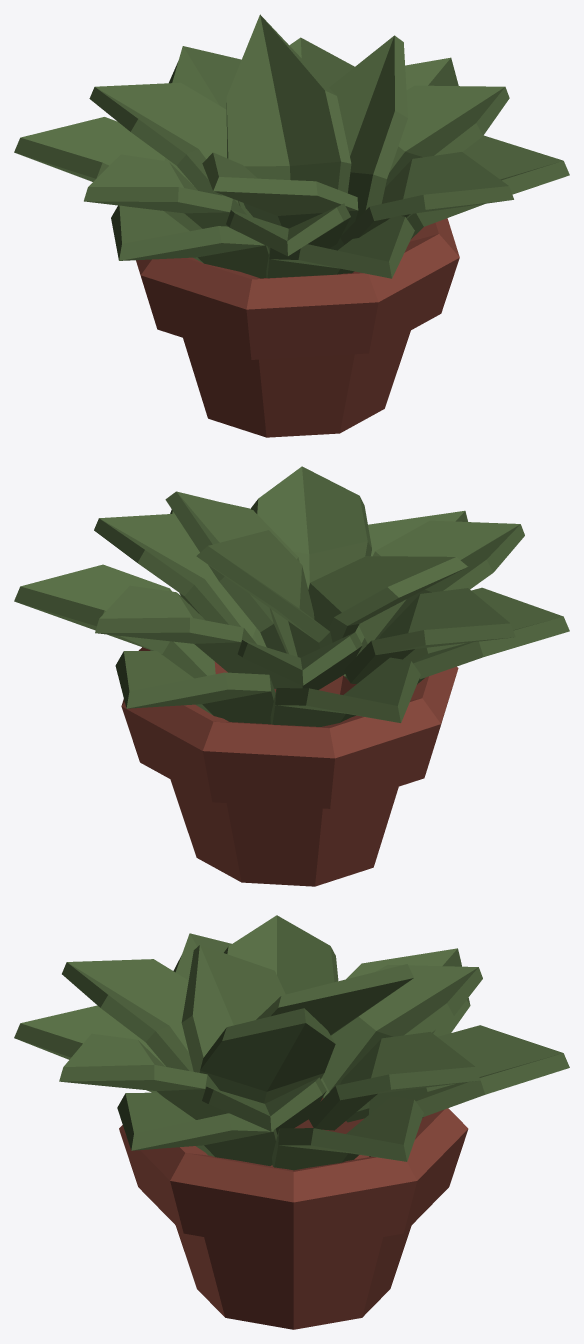
The model's file is Green Plant.fbx.
The picture shows the model from 3 angles, top to bottom: view 1: azimuth 30°, elevation 25°; view 2: azimuth 150°, elevation 25°; view 3: azimuth 270°, elevation 25°; orthographic projection.
Parts seen in each view (by area): view 1: Green Plant; view 2: Green Plant; view 3: Green Plant.
Boxes of the visible parts, x1=… form: Green Plant: x1=14, y1=14, x2=569, y2=437; Green Plant: x1=14, y1=466, x2=569, y2=886; Green Plant: x1=14, y1=915, x2=569, y2=1329.
Size of the model in its own units: 0.4104 by 0.2963 by 0.4425.
